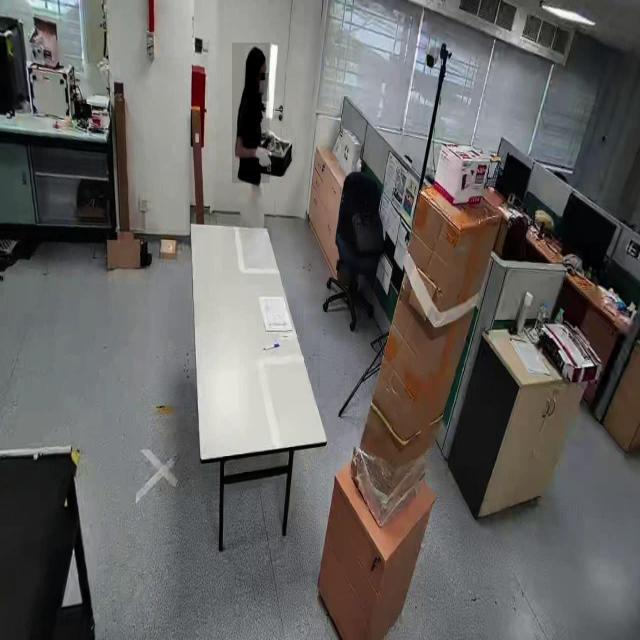face_mask: (257, 73, 269, 102)
hand_glove: (255, 140, 272, 178)
head_nohelmet: (244, 45, 266, 64)
person: (232, 43, 270, 184)
